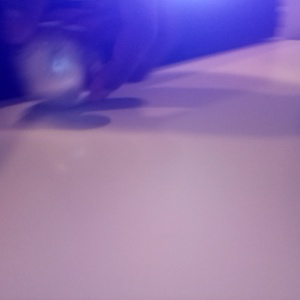alive_ball: (14, 23, 90, 106)
